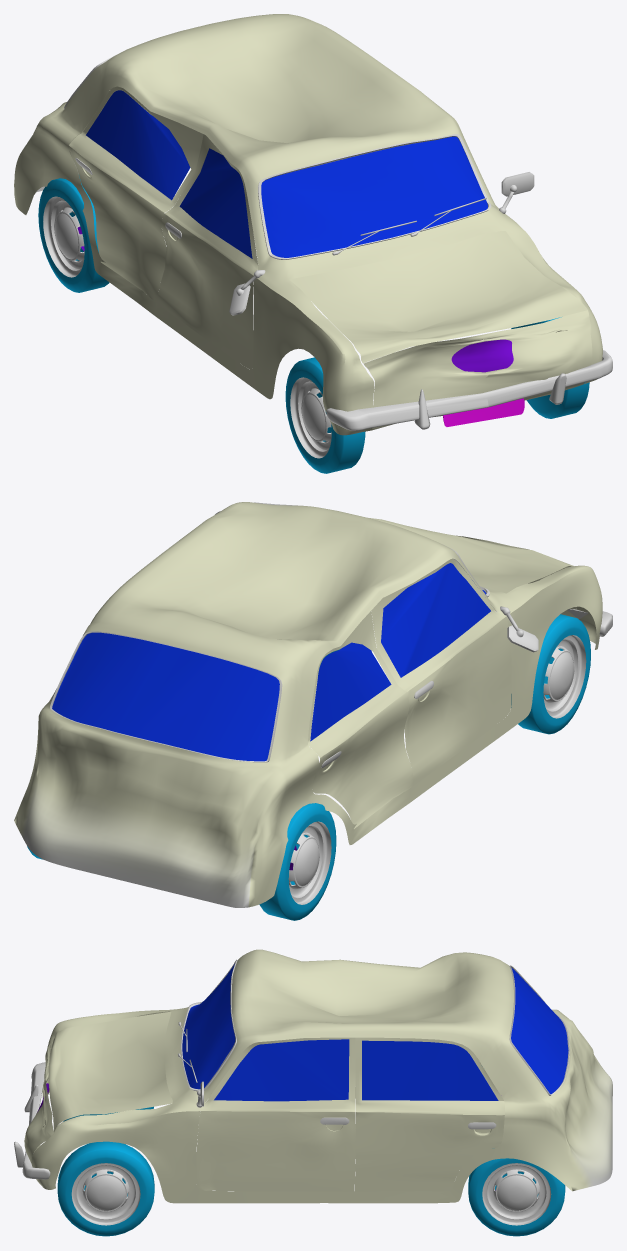
Rendered from Car.fbx.
3 views of the same model, one above another, from view 1: azimuth 30°, elevation 25°; view 2: azimuth 150°, elevation 25°; view 3: azimuth 270°, elevation 25° (orthographic). The views are drawn at different scales.
Parts seen in each view (by area): view 1: wheels; view 2: wheels; view 3: wheels.
Part boxes in pixels (box(x1,y1,x2,y2)): wheels: box(14, 14, 612, 473); wheels: box(14, 502, 612, 920); wheels: box(14, 949, 612, 1236).
Bounding box in the file's own units: 192 × 145 × 390.
